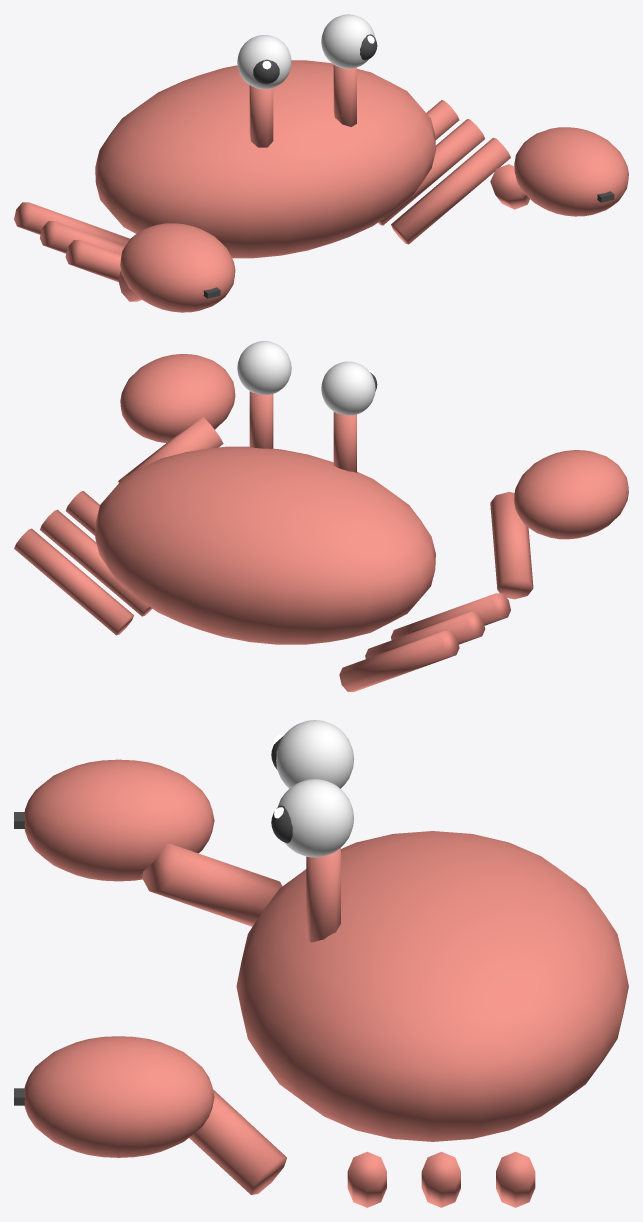
Rendered from crab.glb.
3 renders of one model, top to bottom at view 1: azimuth 30°, elevation 25°; view 2: azimuth 150°, elevation 25°; view 3: azimuth 270°, elevation 25°, orthographic. The views are drawn at different scales.
Visible parts, largest first — view 1: Shell, Pincer1, Pincer-1, Leg10, EyeWhite0, Leg11, EyeWhite1, Leg-12, Leg-10, EyeStalk-1, EyeStalk1, Leg-11 (+3 smaller); view 2: Shell, Pincer-1, Pincer1, Leg12, Arm-1, Leg-12, Leg11, EyeWhite1, EyeWhite0, Leg-11, Leg-10, Arm1 (+3 smaller); view 3: Shell, Pincer1, Pincer-1, Arm-1, Arm1, EyeWhite0, EyeWhite1, EyeStalk1, Leg10, Leg11, Leg12.
Part boxes in pixels (left/top/right/bottom): Shell: left=95, top=60, right=435, bottom=258; Pincer1: left=514, top=127, right=628, bottom=216; Pincer-1: left=120, top=223, right=235, bottom=312; Leg10: left=391, top=137, right=510, bottom=244; EyeWhite0: left=321, top=14, right=375, bottom=68; Leg11: left=378, top=119, right=484, bottom=225; EyeWhite1: left=237, top=35, right=291, bottom=89; Leg-12: left=14, top=202, right=129, bottom=246; Leg-10: left=65, top=240, right=121, bottom=281; EyeStalk-1: left=249, top=85, right=273, bottom=147; EyeStalk1: left=333, top=65, right=356, bottom=126; Leg-11: left=40, top=221, right=124, bottom=254; Shell: left=95, top=446, right=435, bottom=644; Pincer-1: left=514, top=450, right=628, bottom=539; Pincer1: left=120, top=354, right=235, bottom=442; Leg12: left=14, top=528, right=133, bottom=635; Arm-1: left=490, top=492, right=533, bottom=599; Leg-12: left=339, top=631, right=459, bottom=691; Leg11: left=40, top=509, right=152, bottom=616; EyeWhite1: left=321, top=361, right=375, bottom=415; EyeWhite0: left=237, top=341, right=291, bottom=394; Leg-11: left=365, top=612, right=485, bottom=658; Leg-10: left=391, top=593, right=510, bottom=639; Arm1: left=118, top=417, right=223, bottom=482; Shell: left=236, top=831, right=628, bottom=1141; Pincer1: left=23, top=1036, right=214, bottom=1157; Pincer-1: left=23, top=759, right=214, bottom=881; Arm-1: left=142, top=844, right=282, bottom=926; Arm1: left=189, top=1089, right=286, bottom=1194; EyeWhite0: left=278, top=779, right=354, bottom=857; EyeWhite1: left=276, top=720, right=354, bottom=788; EyeStalk1: left=306, top=847, right=340, bottom=942; Leg10: left=347, top=1151, right=386, bottom=1207; Leg11: left=421, top=1151, right=460, bottom=1207; Leg12: left=496, top=1151, right=535, bottom=1207.
Size of the model in its own units: 1.86 by 0.9415 by 1.41.
